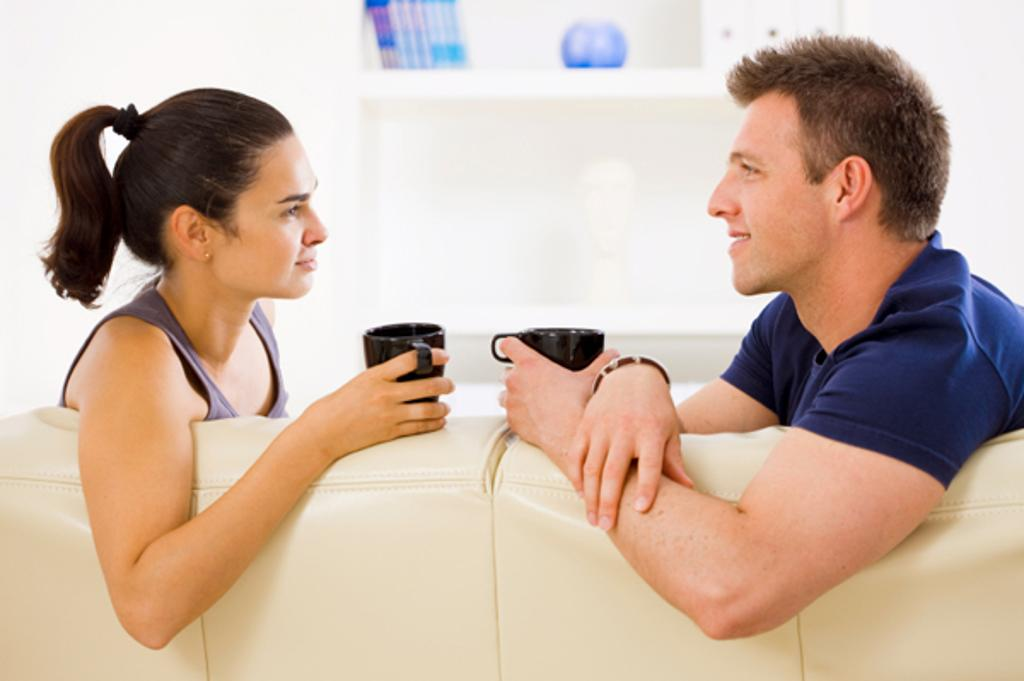face: (708, 90, 814, 296), (234, 146, 326, 302)
